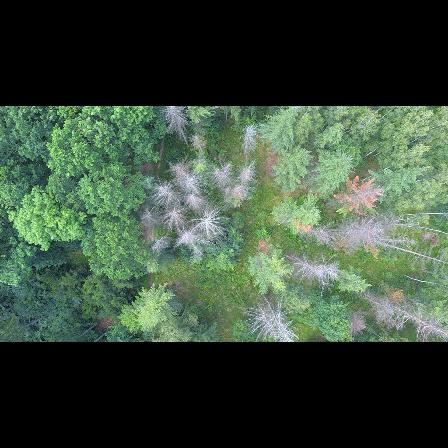Dead: (353, 287, 447, 339), (304, 216, 382, 239), (285, 251, 341, 283), (163, 107, 189, 143), (192, 209, 227, 235), (265, 297, 287, 336), (206, 153, 229, 189), (178, 227, 204, 257), (235, 158, 259, 187), (258, 304, 276, 338), (162, 203, 186, 228), (241, 122, 259, 154), (154, 181, 175, 200), (183, 187, 201, 206), (182, 173, 201, 191)
